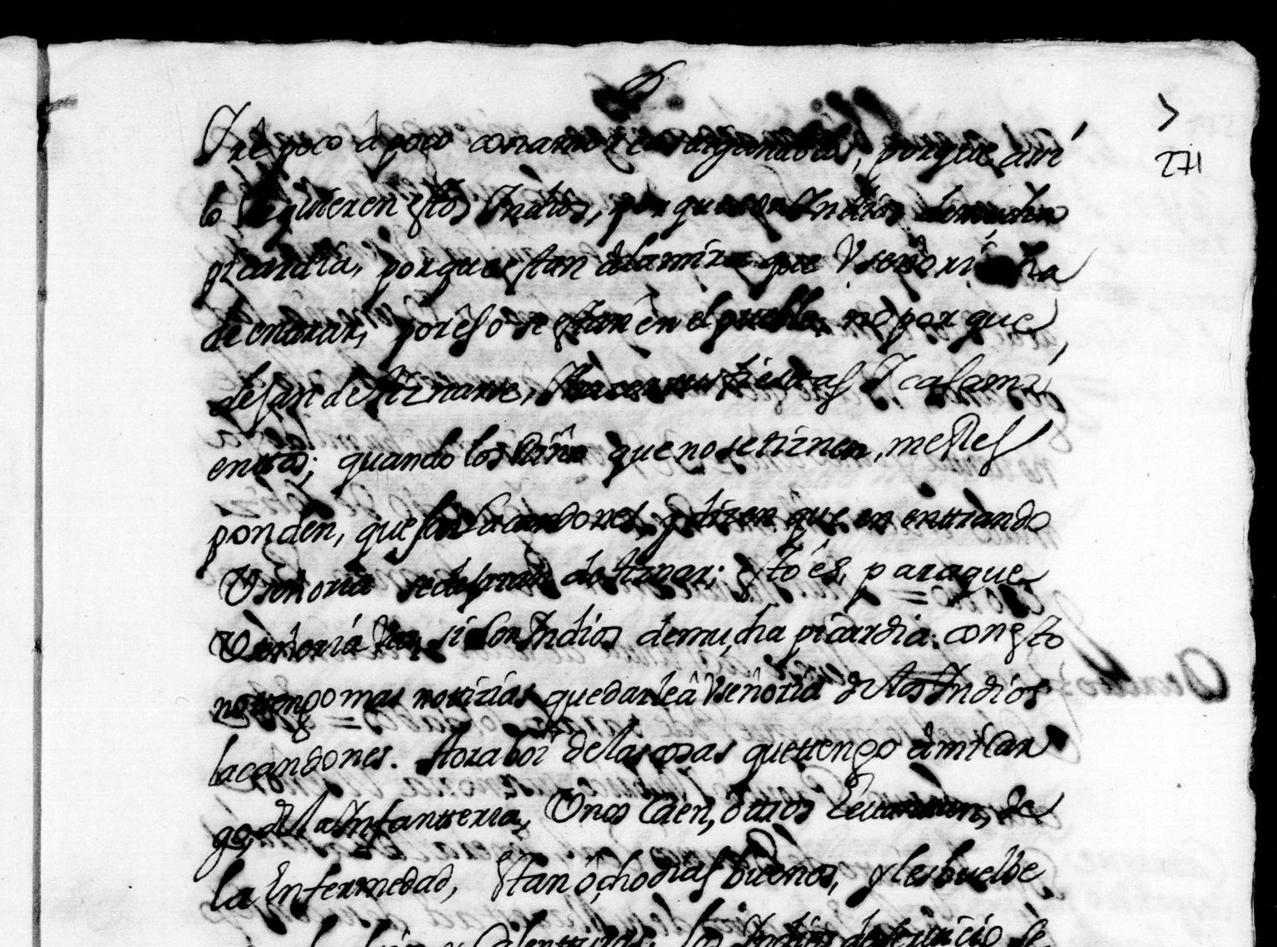lacandon: (207, 733, 393, 786)
